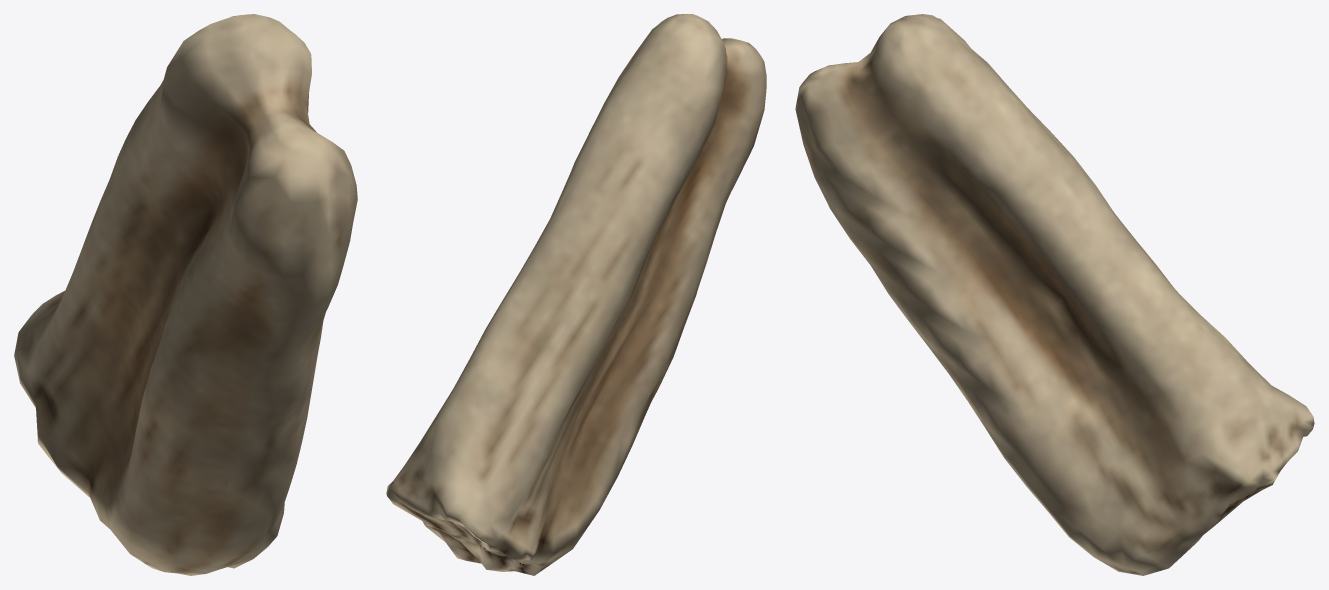
File: Maxilary_Premolar.glb
3 renders of one model, left to right at view 1: azimuth 30°, elevation 25°; view 2: azimuth 150°, elevation 25°; view 3: azimuth 270°, elevation 25°, orthographic. The views are drawn at different scales.
Parts seen in each view (by area): view 1: Maxilary_Premolar.glb; view 2: Maxilary_Premolar.glb; view 3: Maxilary_Premolar.glb.
Boxes of the visible parts, x1,y1,x2,y2 form: Maxilary_Premolar.glb: [14, 14, 357, 575]; Maxilary_Premolar.glb: [386, 14, 766, 575]; Maxilary_Premolar.glb: [795, 14, 1314, 575].
Bounding box in the file's own units: 0.0266 × 0.0697 × 0.0645.
1 material, 1 textured.
